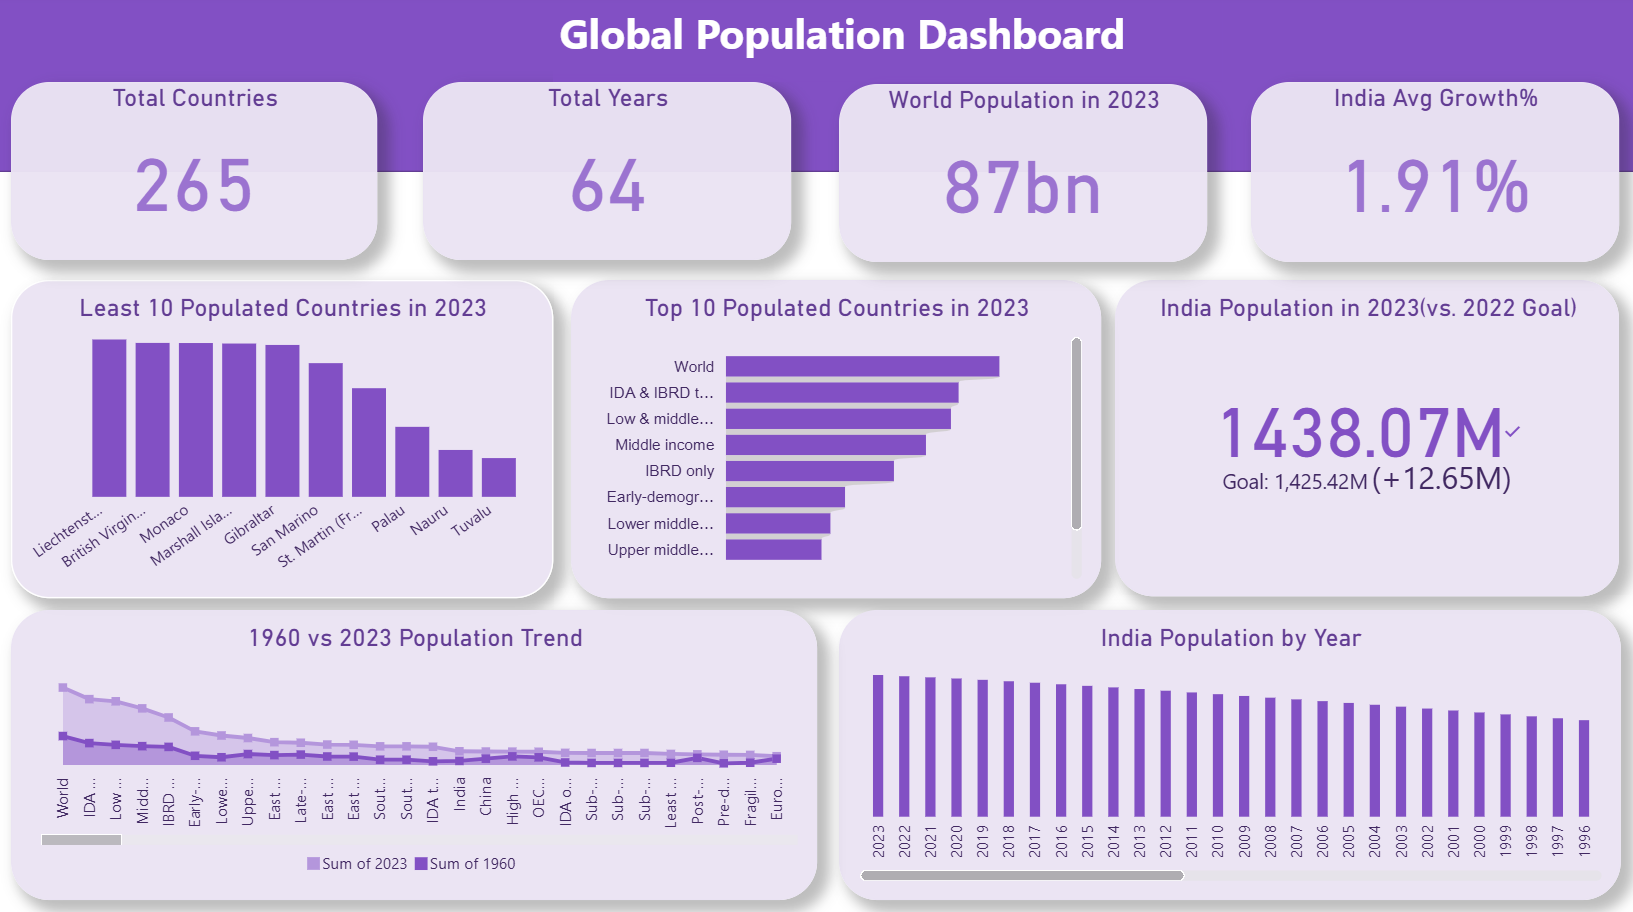

Layout of this report page (visuals, bound fields, positions):
{"tool":"powerbi","page":{"name":"Page 1","canvas":[1280,720],"ordinal":0},"visuals":[{"type":"columnChart","title":"Least 10 Populated Countries in 2023","fields":{"Category":["Main Data(Appended).Country Name"],"Y":["Sum(Main Data(Appended).2023)"]},"box":[10.9,224.9,423.3,248.3],"z":0},{"type":"barChart","title":"Top 10 Populated Countries in 2023","fields":{"Category":["Main Data(Appended).Country Name"],"Y":["Sum(Main Data(Appended).2023)"]},"box":[448.2,224.9,413.9,248.3],"z":1000},{"type":"kpi","title":"India Population in 2023(vs. 2022 Goal)","fields":{"TrendLine":["India's Growth rate.Index"],"Goal":["Sum(India's Population.2022)"],"Indicator":["Sum(India's Population.2023)"]},"box":[873.1,224.9,393.6,246.8],"z":2000},{"type":"ribbonChart","title":"India Population by Year","fields":{"Category":["India's Growth rate.Year"],"Y":["Sum(India's Growth rate.Population)"]},"box":[657.5,482.6,610.7,226.5],"z":3000},{"type":"shape","box":[0,4.7,1280.7,135.9],"z":4000},{"type":"card","title":"Total Countries","fields":{"Values":["Count(Main Data(Appended).Country Name)"]},"box":[10.9,70.3,285.8,139],"z":5000},{"type":"card","title":"Total Years","fields":{"Values":["Count(India's Growth rate.Year)"]},"box":[332.7,70.3,287.4,139],"z":6000},{"type":"card","title":"World Population in 2023","fields":{"Values":["Sum(Main Data(Appended).2023)"]},"box":[657.5,71.8,287.4,139],"z":7000},{"type":"card","title":"India Avg Growth%","fields":{"Values":["Avg(India's Growth rate.Growth%)"]},"box":[979.3,70.3,287.4,140.6],"z":8000},{"type":"textbox","box":[434.2,4.7,523.2,65.6],"z":9000},{"type":"areaChart","title":"1960 vs 2023 Population Trend","fields":{"Category":["Main Data(Appended).Country Name"],"Y":["Sum(Main Data(Appended).2023)","Sum(Main Data(Appended).1960)"]},"box":[10.9,482.6,629.4,226.5],"z":10000}]}

Visuals, with their boxes in screenshot pixels (x1, y1, x2, y2), scaled from the page's 1280x720 canvas onto the 1633x912 screenshot:
"Least 10 Populated Countries in 2023" columnChart: 14/285/554/599
"Top 10 Populated Countries in 2023" barChart: 572/285/1100/599
"India Population in 2023(vs. 2022 Goal)" kpi: 1114/285/1616/597
"India Population by Year" ribbonChart: 839/611/1618/898
shape: 0/6/1632/178
"Total Countries" card: 14/89/379/265
"Total Years" card: 424/89/791/265
"World Population in 2023" card: 839/91/1205/267
"India Avg Growth%" card: 1249/89/1616/267
textbox: 554/6/1221/89
"1960 vs 2023 Population Trend" areaChart: 14/611/817/898
